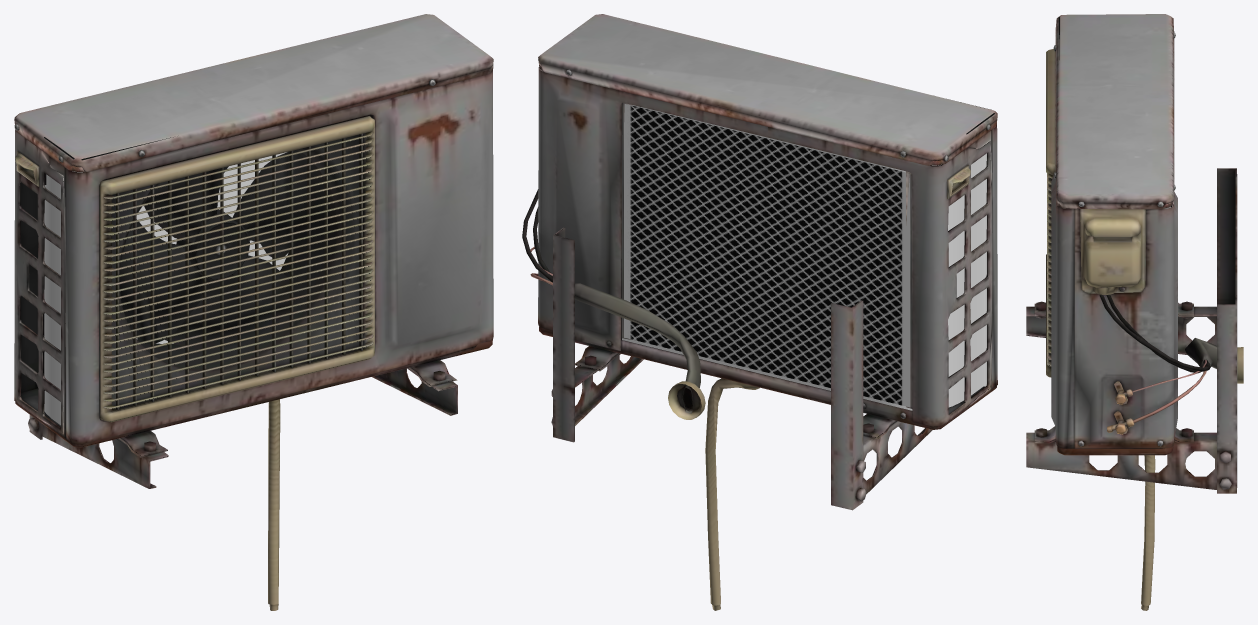
Rendered from exterior_aircon_unit.glb.
3 renders of one model, left to right at view 1: azimuth 30°, elevation 25°; view 2: azimuth 150°, elevation 25°; view 3: azimuth 270°, elevation 25°, orthographic. The views are drawn at different scales.
Visible parts, largest first — view 1: exterior_aircon_unit_rusted; view 2: exterior_aircon_unit_rusted; view 3: exterior_aircon_unit_rusted.
Part boxes in pixels (x1,y1,x2,y2): exterior_aircon_unit_rusted: [14, 14, 493, 610]; exterior_aircon_unit_rusted: [522, 14, 997, 610]; exterior_aircon_unit_rusted: [1026, 14, 1243, 610].
Bounding box in the file's own units: 0.8 × 0.9279 × 0.3742.
Materials: 2 (2 with a texture image).
